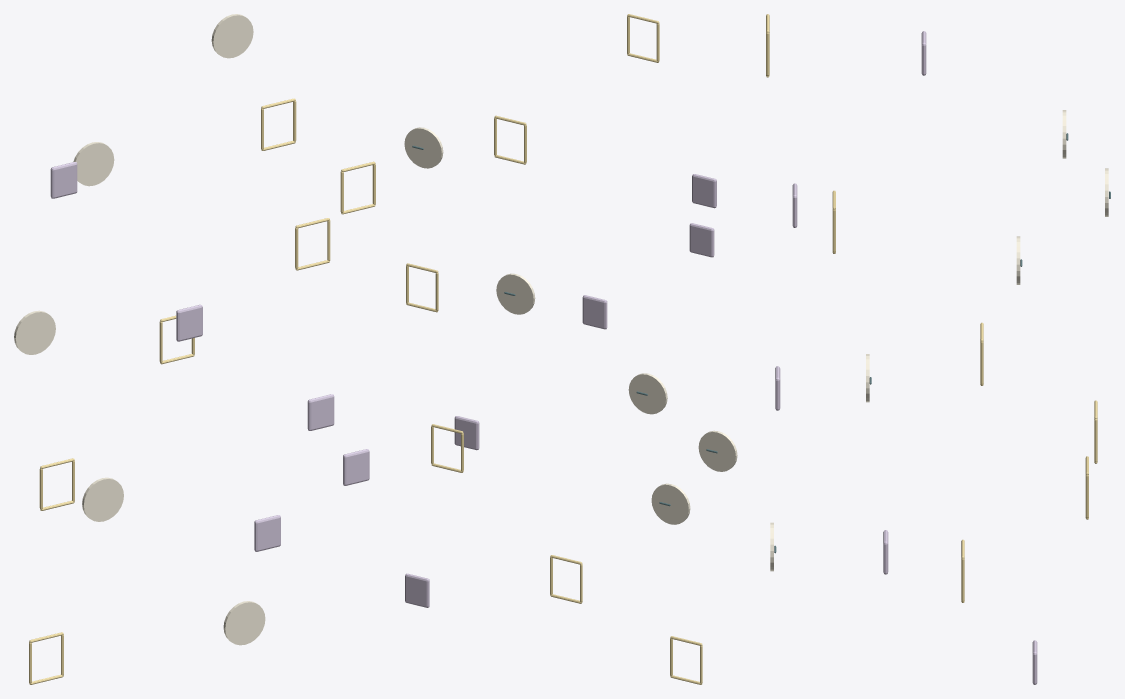
File: hi3d-hi3d-dream-tunnel-D0FeH05_.glb
3 renders of one model, left to right at view 1: azimuth 30°, elevation 25°; view 2: azimuth 150°, elevation 25°; view 3: azimuth 270°, elevation 25°, orthographic. The views are drawn at different scales.
Parts seen in each view (by area): view 1: ENV_MAT_cream.007, ENV_MAT_lilac.002, ENV_MAT_gold.007; view 2: ENV_MAT_cream.007, ENV_MAT_lilac.002, ENV_MAT_gold.007; view 3: ENV_MAT_gold.007, ENV_MAT_lilac.002, ENV_MAT_cream.007.
Part boxes in pixels (x1,y1,x2,y2): ENV_MAT_cream.007: (14,14,265,645); ENV_MAT_lilac.002: (50,162,369,551); ENV_MAT_gold.007: (29,98,375,684); ENV_MAT_cream.007: (404,127,737,524); ENV_MAT_lilac.002: (405,174,716,607); ENV_MAT_gold.007: (406,14,702,684); ENV_MAT_gold.007: (766,14,1097,602); ENV_MAT_lilac.002: (775,31,1037,684); ENV_MAT_cream.007: (770,110,1108,571).
Size of the model in its own units: 15.44 by 29.14 by 14.13.
